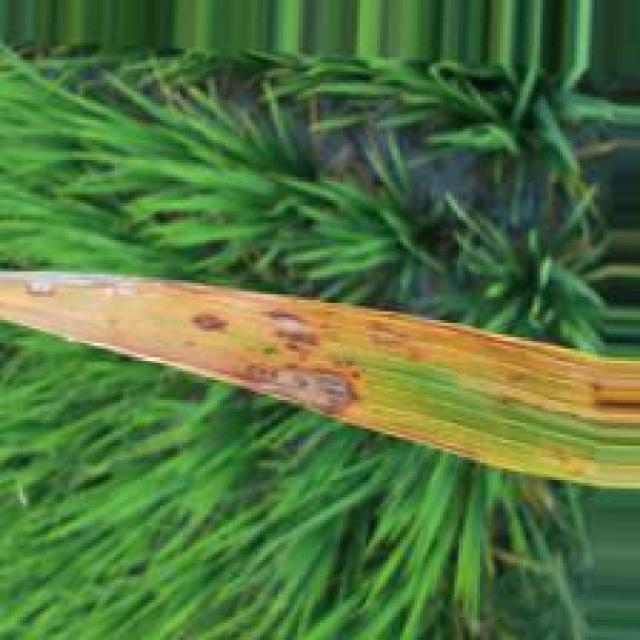Narrow_Brown_Leaf_Spot: (0, 271, 640, 492)
